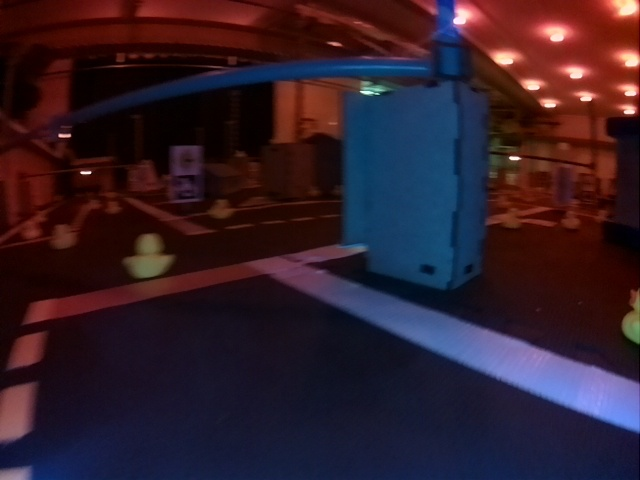Duckie: (122, 233, 173, 279), (623, 291, 638, 343), (51, 225, 77, 248), (209, 201, 233, 219), (21, 220, 40, 240), (507, 208, 521, 230), (563, 211, 580, 227), (107, 200, 121, 214)
Intersection sign: (178, 149, 198, 171)
QR code: (172, 175, 199, 199)
